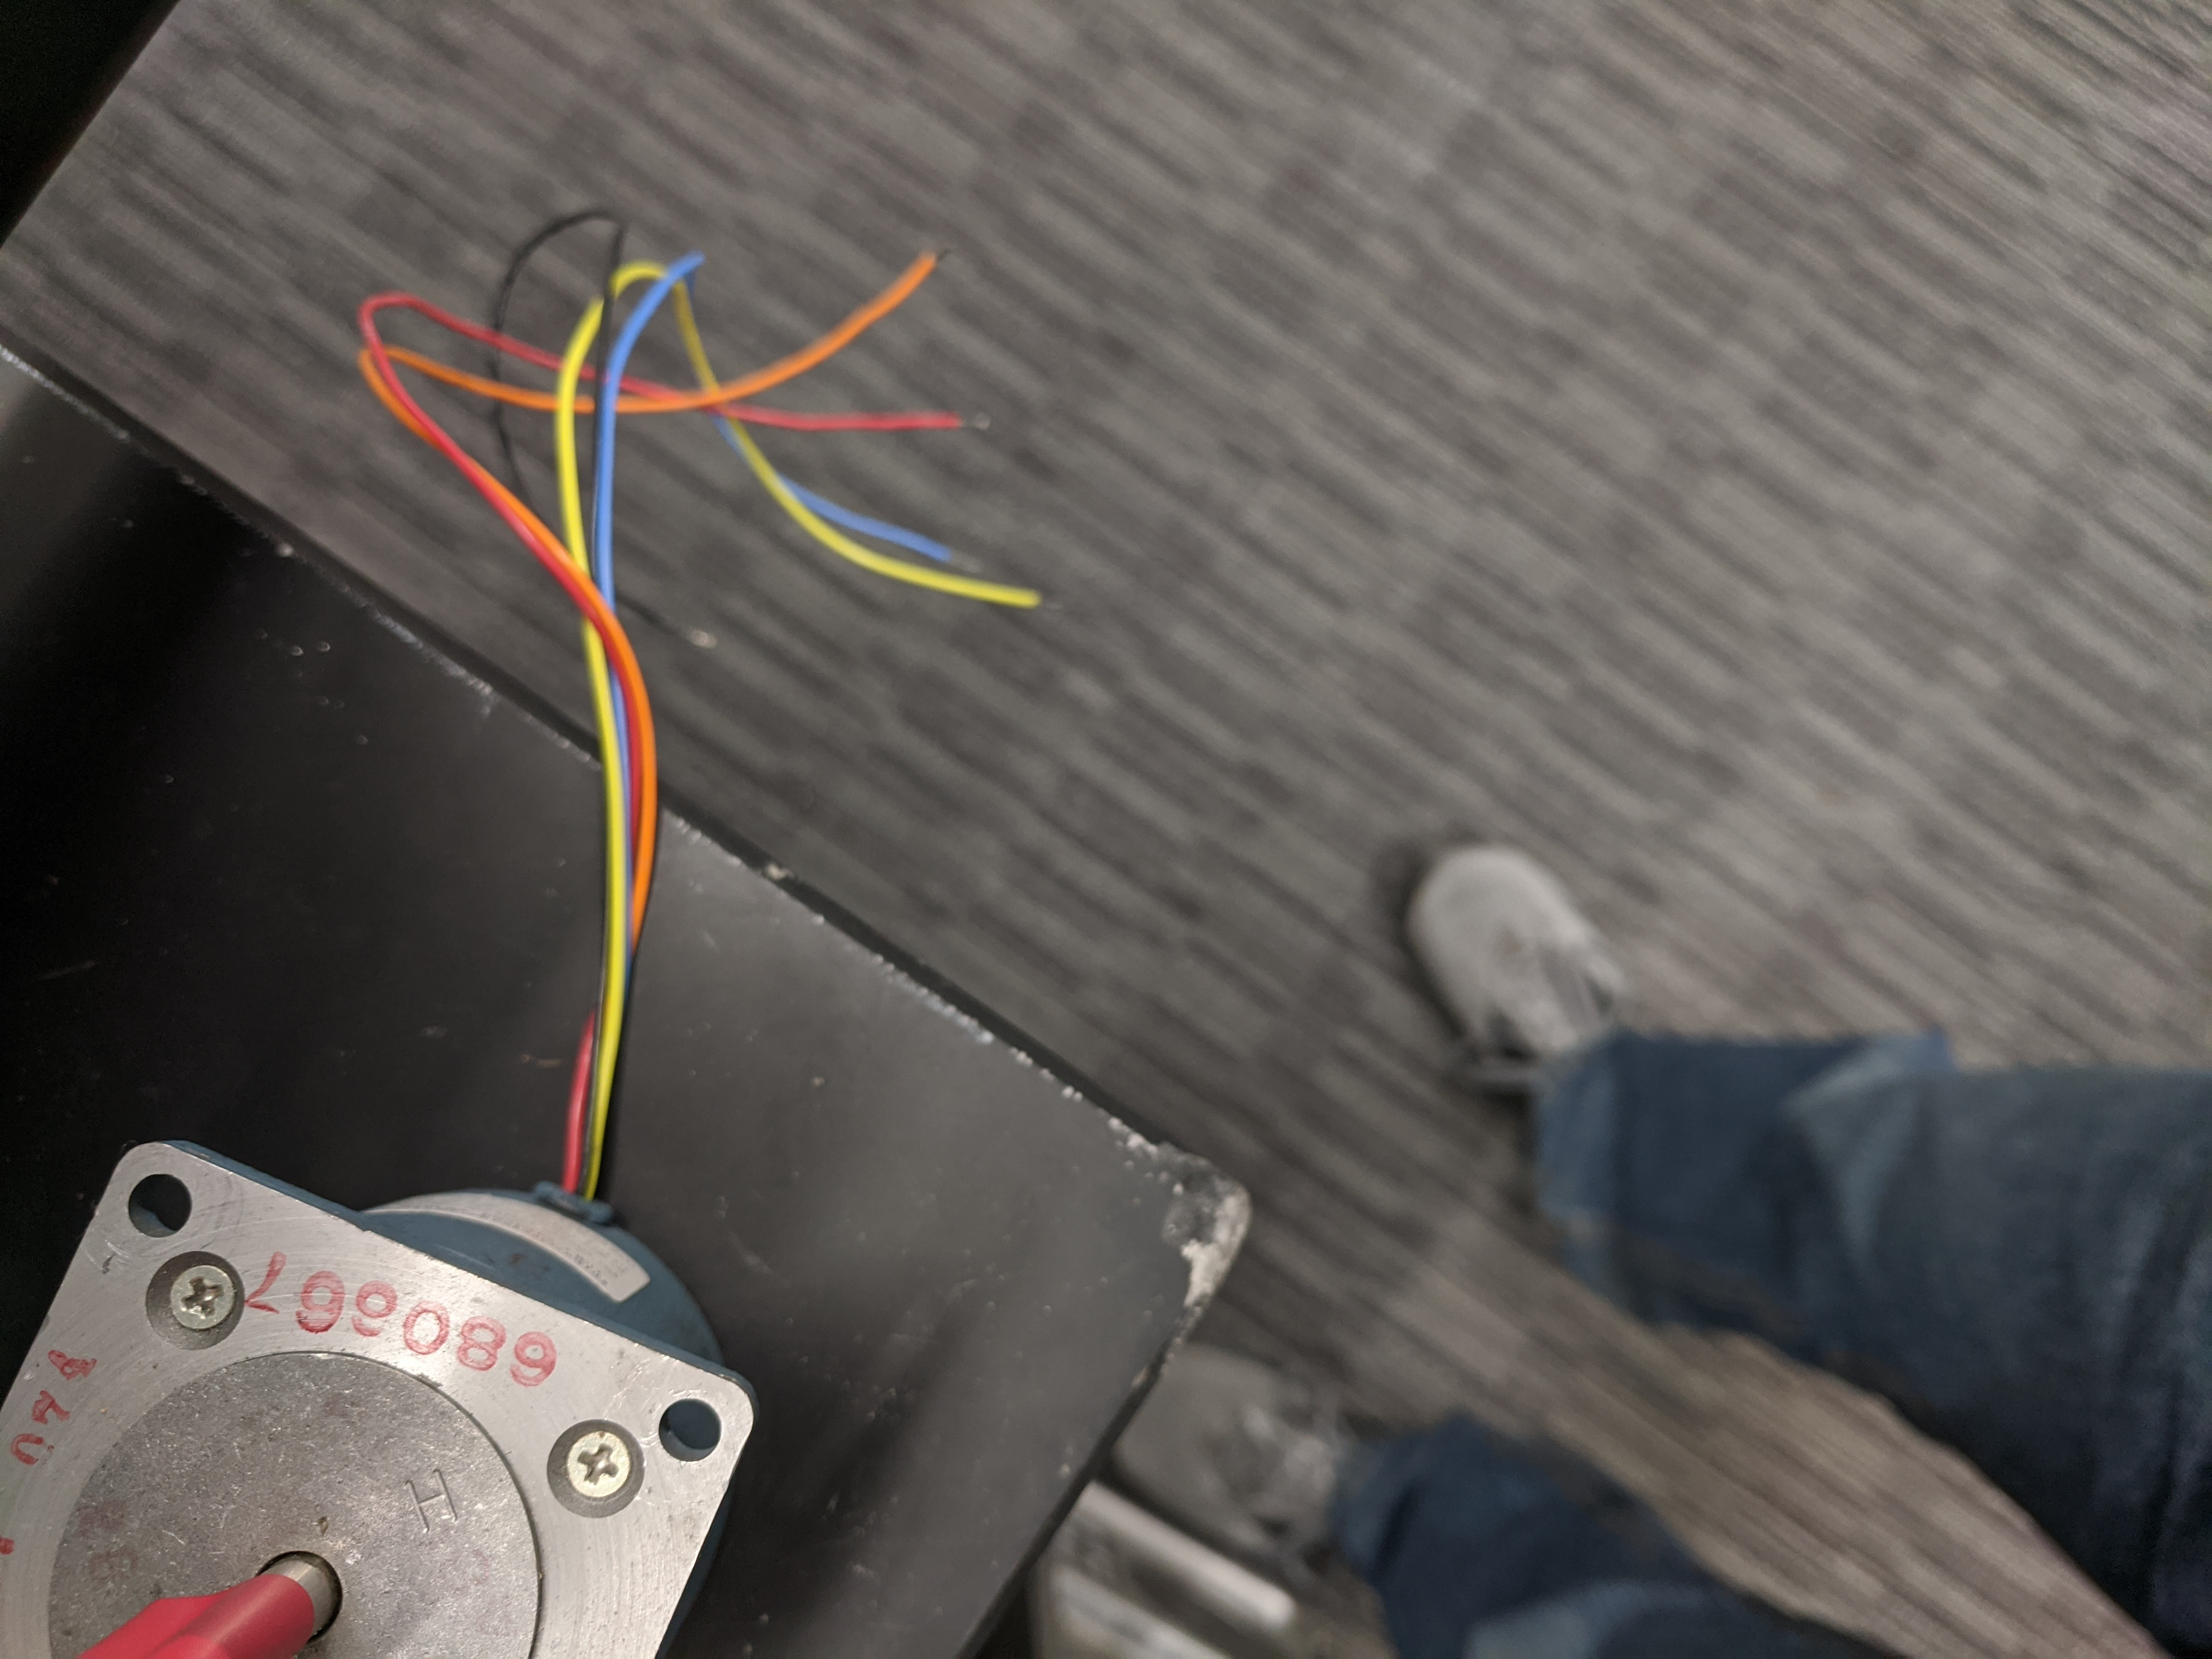cross_recessed_screw: (552, 1429, 639, 1500), (153, 1265, 240, 1326)
